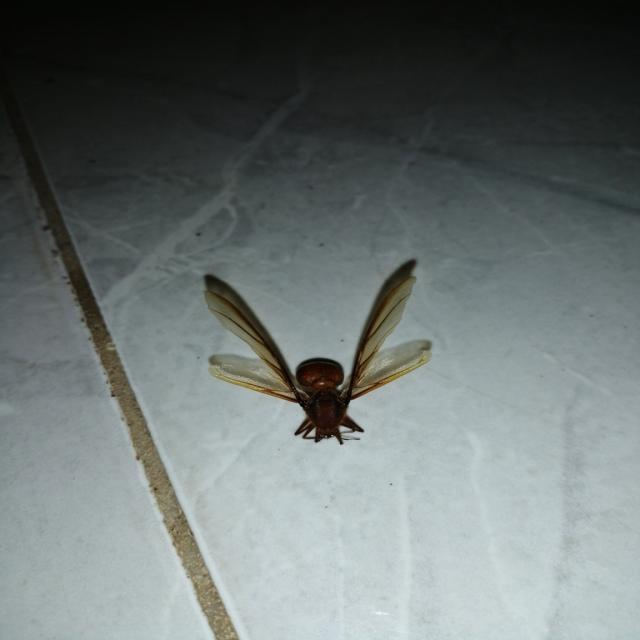Dead-Male-Alate: (203, 276, 432, 446)
